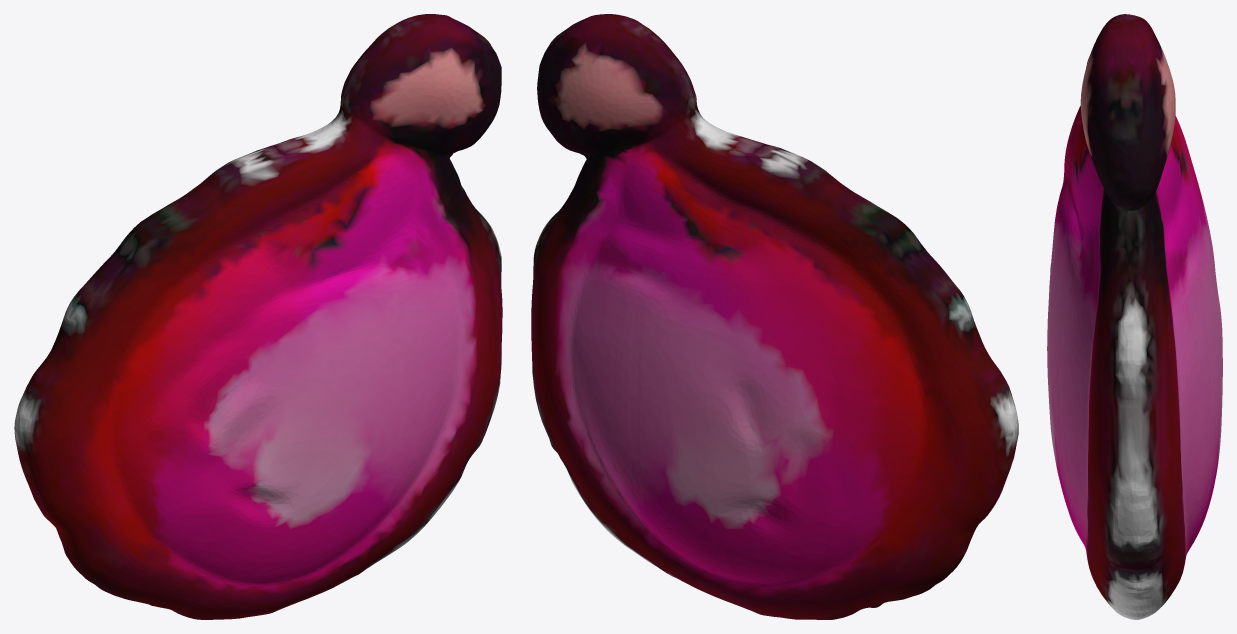
The model's file is potionfir.glb.
3 views of the same model, side by side, from view 1: azimuth 30°, elevation 25°; view 2: azimuth 150°, elevation 25°; view 3: azimuth 270°, elevation 25° (orthographic). The views are drawn at different scales.
Parts seen in each view (by area): view 1: geometry_0; view 2: geometry_0; view 3: geometry_0.
Part boxes in pixels (box(x1,y1,x2,y2)): geometry_0: box(14, 14, 502, 619); geometry_0: box(531, 14, 1018, 619); geometry_0: box(1047, 14, 1222, 619).
Bounding box in the file's own units: 0.375 × 0.4151 × 0.102.
